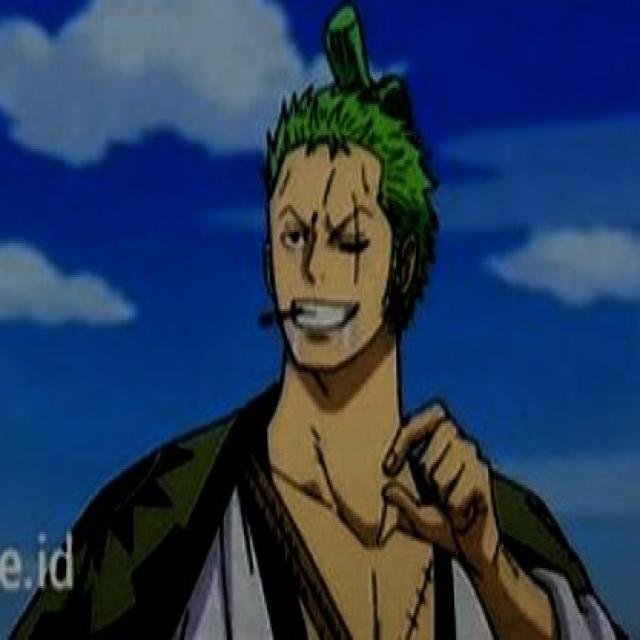Zoro: (9, 2, 628, 640)
